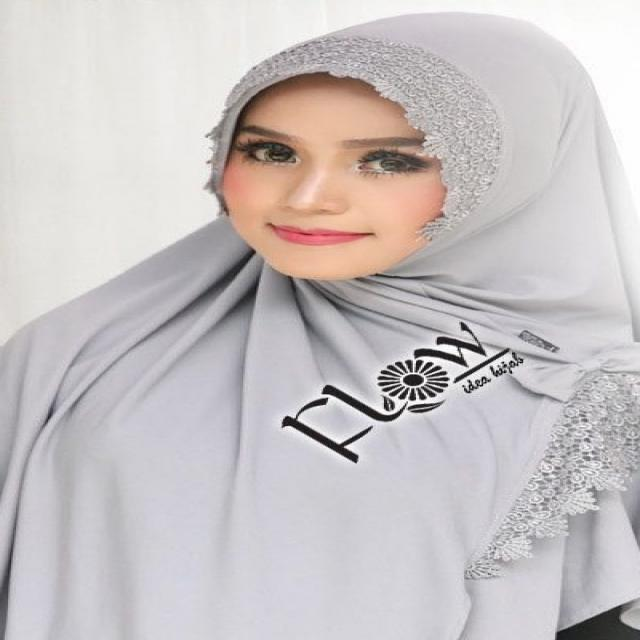head: (191, 15, 615, 284)
